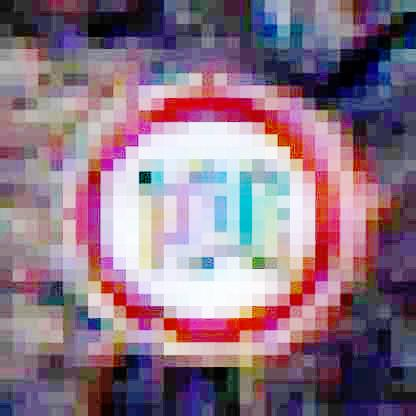Speed Limit -100-: (67, 80, 367, 362)
